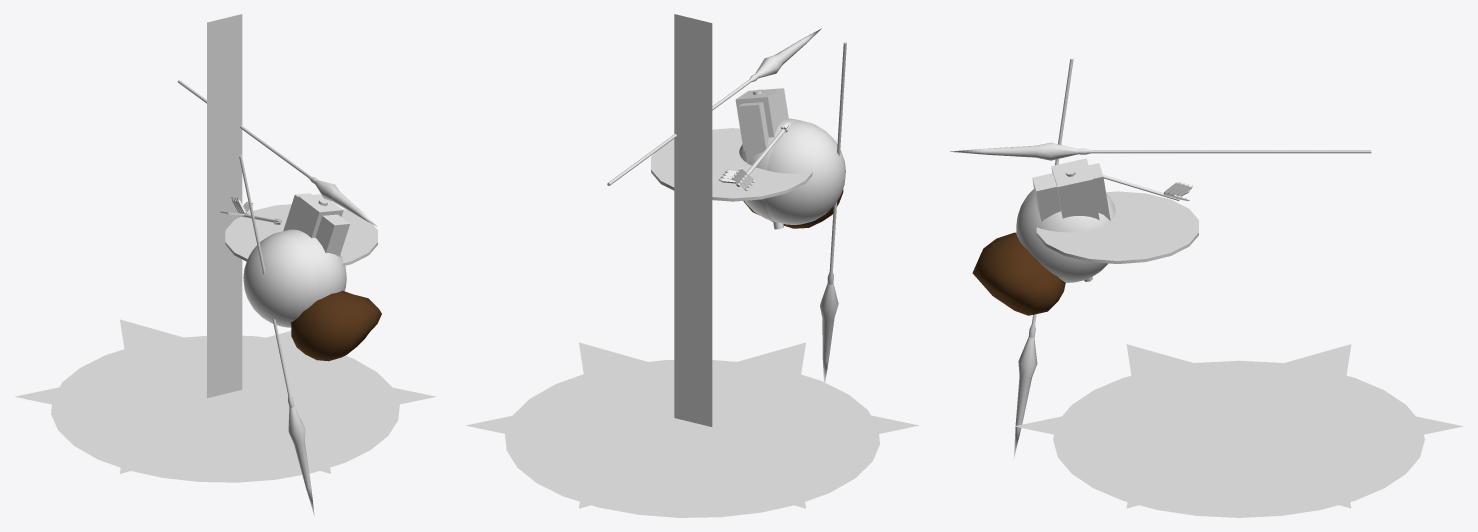
The model's file is augProjectiles.FBX.
3 views of the same model, side by side, from view 1: azimuth 30°, elevation 25°; view 2: azimuth 150°, elevation 25°; view 3: azimuth 270°, elevation 25° (orthographic). The views are drawn at different scales.
Visible parts, largest first — view 1: LeaderStar, Plane001, SelectionCircle, Grid, forwardSpell_ncl1_2, Sphere002, RoundShield2, Mjolnir2, impaleRSpear, forwardSpell, LSpear2; view 2: LeaderStar, Plane001, SelectionCircle, Grid, forwardSpell_ncl1_2, RoundShield2, Mjolnir2, impaleRSpear, LSpear2, forwardSpell, Arrow2; view 3: LeaderStar, SelectionCircle, Grid, RoundShield2, Sphere002, Mjolnir2, forwardSpell, LSpear2, impaleRSpear, Arrow2.
Part boxes in pixels (box(x1,y1,x2,y2)): LeaderStar: box(14, 319, 436, 473); Plane001: box(207, 14, 242, 398); SelectionCircle: box(51, 335, 399, 482); Grid: box(115, 347, 335, 440); forwardSpell_ncl1_2: box(243, 230, 319, 327); Sphere002: box(291, 290, 381, 361); RoundShield2: box(225, 204, 377, 266); Mjolnir2: box(283, 193, 349, 256); impaleRSpear: box(239, 155, 314, 516); forwardSpell: box(286, 229, 346, 299); LSpear2: box(177, 80, 377, 226); LeaderStar: box(466, 342, 918, 508); Plane001: box(674, 14, 712, 426); SelectionCircle: box(505, 360, 879, 517); Grid: box(574, 372, 810, 472); forwardSpell_ncl1_2: box(764, 120, 845, 224); RoundShield2: box(651, 128, 812, 201); Mjolnir2: box(735, 88, 788, 229); impaleRSpear: box(820, 41, 846, 382); LSpear2: box(607, 28, 821, 185); forwardSpell: box(739, 118, 801, 221); Arrow2: box(718, 122, 790, 190); LeaderStar: box(1015, 344, 1462, 508); SelectionCircle: box(1053, 360, 1424, 517); Grid: box(1153, 387, 1324, 459); RoundShield2: box(1036, 191, 1198, 263); Sphere002: box(972, 232, 1065, 315); Mjolnir2: box(1032, 158, 1110, 281); forwardSpell: box(1016, 194, 1115, 282); LSpear2: box(950, 142, 1371, 160); impaleRSpear: box(1013, 58, 1073, 459); Arrow2: box(1103, 175, 1193, 200).
Size of the model in its own units: 1.36 by 1.71 by 1.8.
